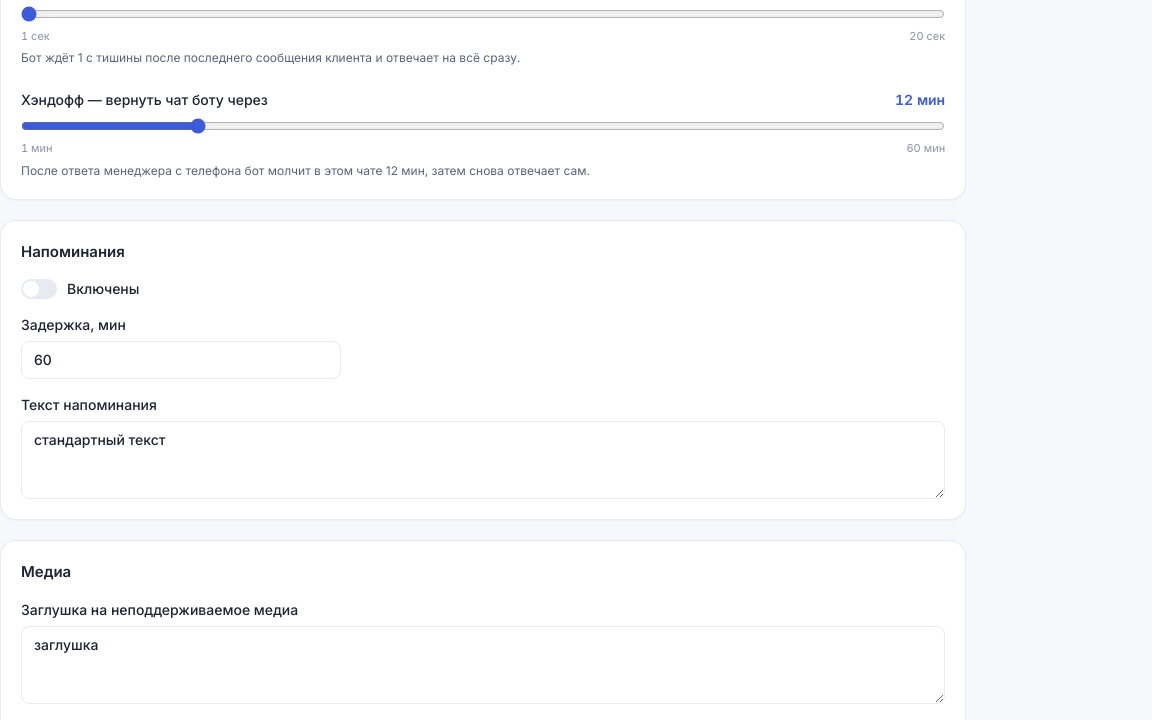
Test: validation blocks the save call, shows an error, and reverts the field › rejects a negative reminder delay
This screenshot has width=1152, height=720.
(page scrolled)
Replace the text in the number field labelled "Задержка, мин" with "-5" at point(181, 360), box [21,341,341,379]
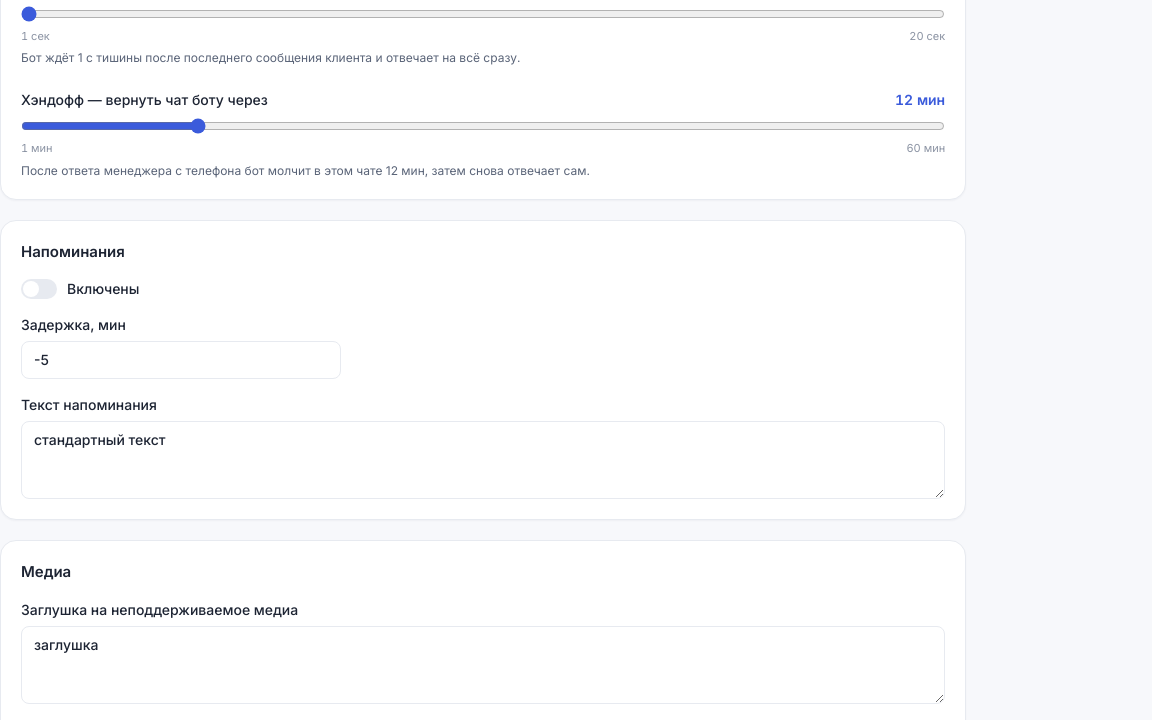
Leave the number field labelled "Задержка, мин", box [21,341,341,379]
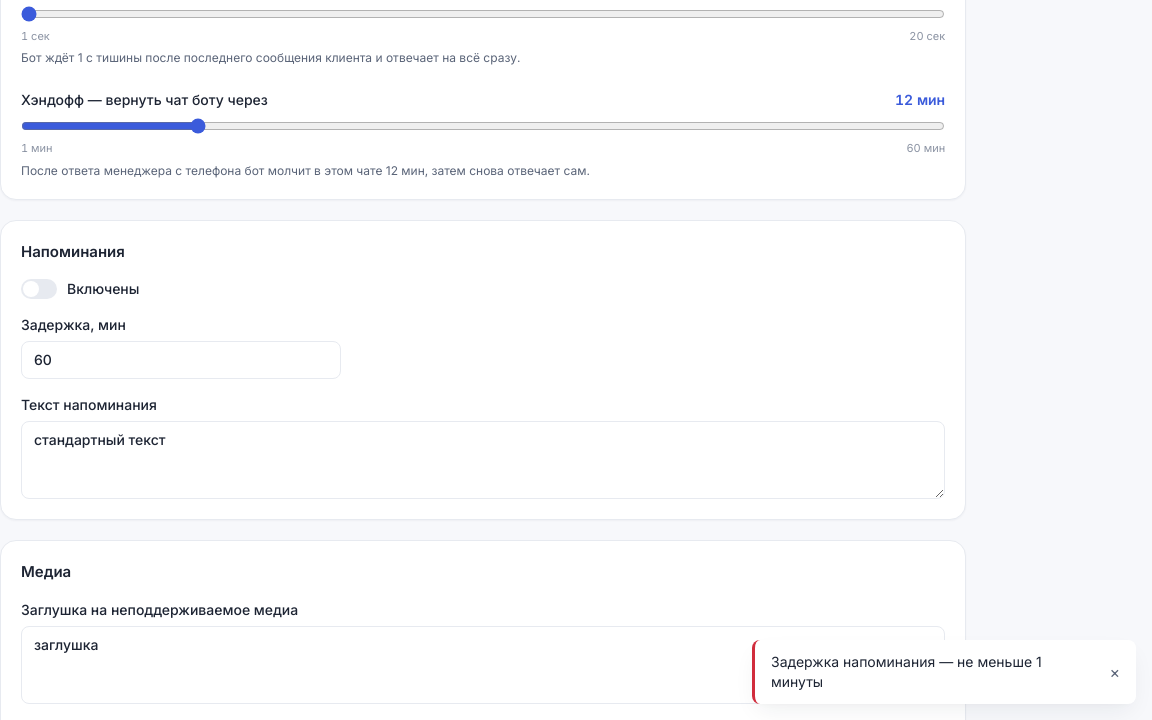
Now the message "Задержка напоминания — не меньше 1 минуты ×" is shown, box [752,640,1136,704]
Now the number field labelled "Задержка, мин" holds "60", box [21,341,341,379]
